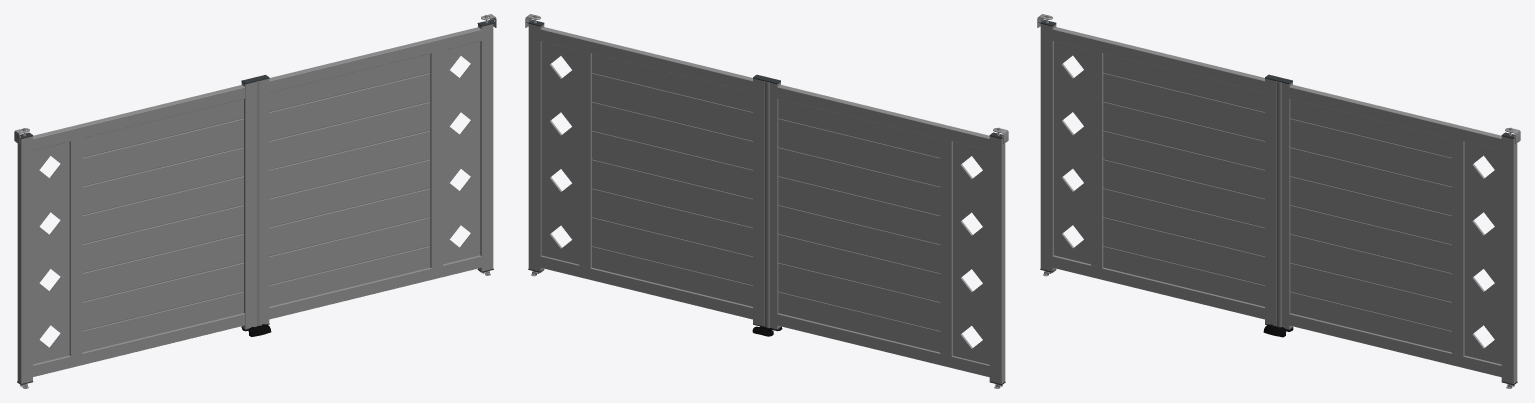
3 views of the same model, side by side, from view 1: azimuth 30°, elevation 25°; view 2: azimuth 150°, elevation 25°; view 3: azimuth 330°, elevation 25° (orthographic).
Parts seen in each view (by area): view 1: losange002, losange, Shape107412985, Shape107412977, Shape107412983, Shape107411702, Shape107412976, Shape107412978, Shape107412986, Shape107412975, Shape107412987, Shape107412988 (+17 smaller); view 2: losange002, losange, Shape107412977, Shape107411702, Shape107412976, Shape107412978, Shape107412975, Shape107412974, Shape107412983, Shape107412989, Shape107412985, Shape107412986 (+17 smaller); view 3: losange002, losange, Shape107412989, Shape107411702, Shape107412974, Shape107412983, Shape107412986, Shape107412988, Shape107412977, Shape107412987, Shape107412978, Shape107412985 (+17 smaller).
Boxes of the visible parts, left/top/right/bottom form: losange002: left=443, top=41, right=480, bottom=264; losange: left=33, top=141, right=69, bottom=364; Shape107412985: left=269, top=101, right=430, bottom=169; Shape107412977: left=82, top=233, right=243, bottom=301; Shape107412983: left=269, top=72, right=430, bottom=140; Shape107411702: left=82, top=118, right=243, bottom=185; Shape107412976: left=82, top=204, right=243, bottom=272; Shape107412978: left=82, top=262, right=243, bottom=330; Shape107412986: left=269, top=130, right=430, bottom=198; Shape107412975: left=82, top=175, right=243, bottom=243; Shape107412987: left=269, top=159, right=430, bottom=226; Shape107412988: left=269, top=188, right=430, bottom=255; losange002: left=541, top=41, right=579, bottom=264; losange: left=953, top=141, right=989, bottom=364; Shape107412977: left=778, top=233, right=940, bottom=301; Shape107411702: left=778, top=118, right=940, bottom=185; Shape107412976: left=778, top=204, right=940, bottom=272; Shape107412978: left=778, top=262, right=940, bottom=330; Shape107412975: left=778, top=176, right=940, bottom=243; Shape107412974: left=778, top=147, right=940, bottom=214; Shape107412983: left=592, top=72, right=752, bottom=140; Shape107412989: left=592, top=216, right=752, bottom=284; Shape107412985: left=592, top=101, right=752, bottom=169; Shape107412986: left=592, top=130, right=752, bottom=197; losange002: left=1464, top=141, right=1501, bottom=364; losange: left=1054, top=41, right=1090, bottom=264; Shape107412989: left=1290, top=262, right=1451, bottom=330; Shape107411702: left=1103, top=72, right=1264, bottom=140; Shape107412974: left=1103, top=101, right=1264, bottom=169; Shape107412983: left=1290, top=118, right=1451, bottom=185; Shape107412986: left=1290, top=176, right=1451, bottom=243; Shape107412988: left=1290, top=233, right=1451, bottom=301; Shape107412977: left=1103, top=188, right=1264, bottom=255; Shape107412987: left=1290, top=204, right=1451, bottom=272; Shape107412978: left=1103, top=216, right=1264, bottom=284; Shape107412985: left=1290, top=147, right=1451, bottom=214.
Bounding box in the file's own units: 3260 × 1696 × 146.
Materials: 7 (2 with a texture image).
